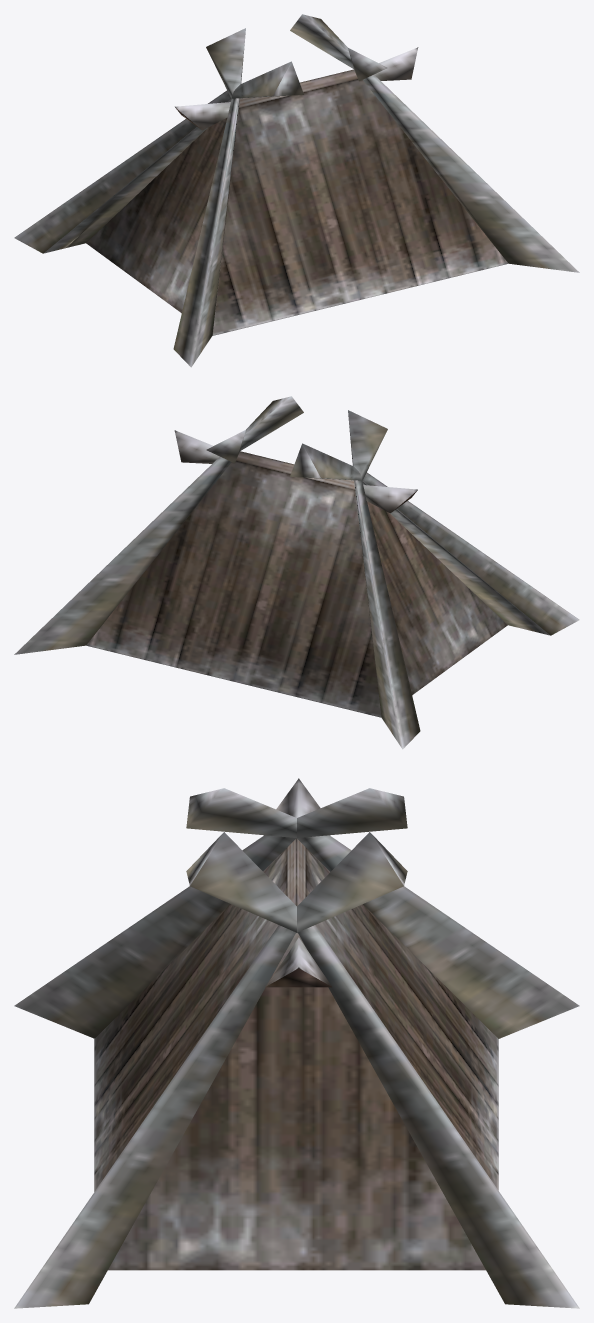
Rendered from stbuho37.dae.
3 renders of one model, top to bottom at view 1: azimuth 30°, elevation 25°; view 2: azimuth 150°, elevation 25°; view 3: azimuth 270°, elevation 25°, orthographic. The views are drawn at different scales.
Visible parts, largest first — view 1: camp; view 2: camp; view 3: camp.
Boxes of the visible parts, x1=… form: camp: x1=14, y1=14, x2=579, y2=367; camp: x1=14, y1=396, x2=579, y2=749; camp: x1=14, y1=778, x2=579, y2=1308.
Bounding box in the file's own units: 1.93 × 1.53 × 1.03.
1 material, 1 textured.
